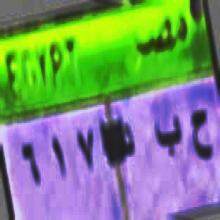1: (47, 134, 70, 186)
6: (21, 137, 43, 198)
7: (76, 118, 98, 187)
7aa: (188, 102, 216, 166)
baa: (152, 106, 184, 169)
daal: (123, 120, 138, 164)
